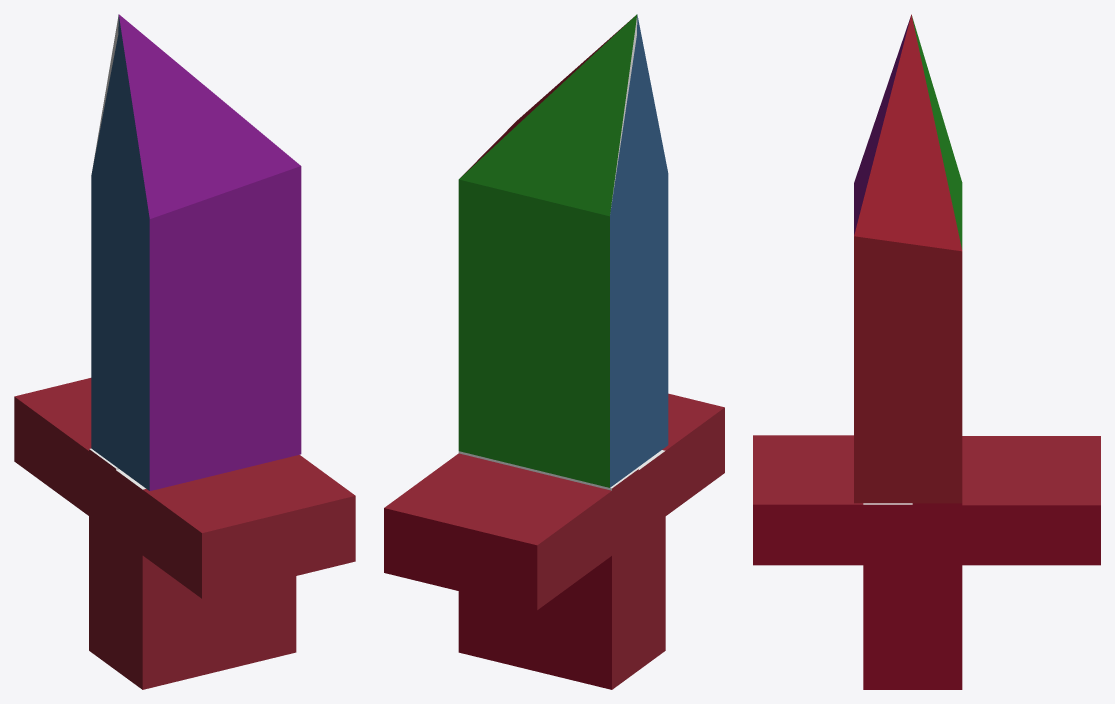
The model's file is Sword.fbx.
3 renders of one model, left to right at view 1: azimuth 30°, elevation 25°; view 2: azimuth 150°, elevation 25°; view 3: azimuth 270°, elevation 25°, orthographic. The views are drawn at different scales.
Parts seen in each view (by area): view 1: Model; view 2: Model; view 3: Model.
Boxes of the visible parts, x1,y1,x2,y2 form: Model: (14,14,355,689); Model: (384,14,724,689); Model: (753,14,1100,689).
Bounding box in the file's own units: 88.33 × 346 × 179.
